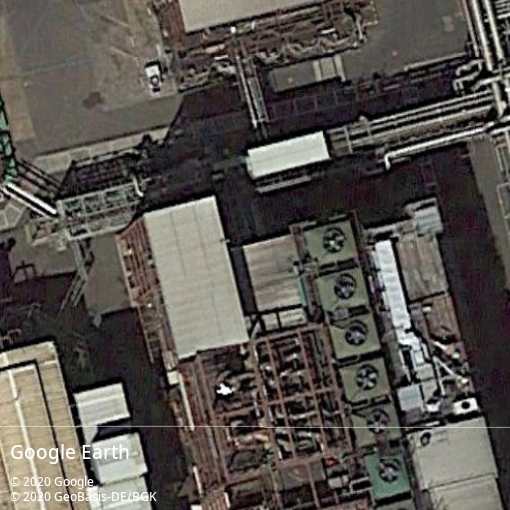Vent: (365, 410, 391, 436), (332, 273, 357, 299), (377, 459, 402, 485), (321, 229, 346, 253), (354, 366, 379, 390), (343, 323, 368, 346)
